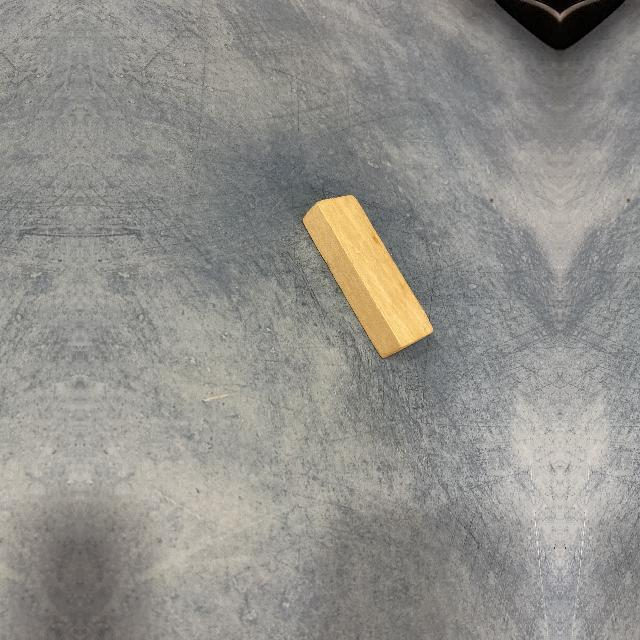jenga: (304, 191, 436, 367)
